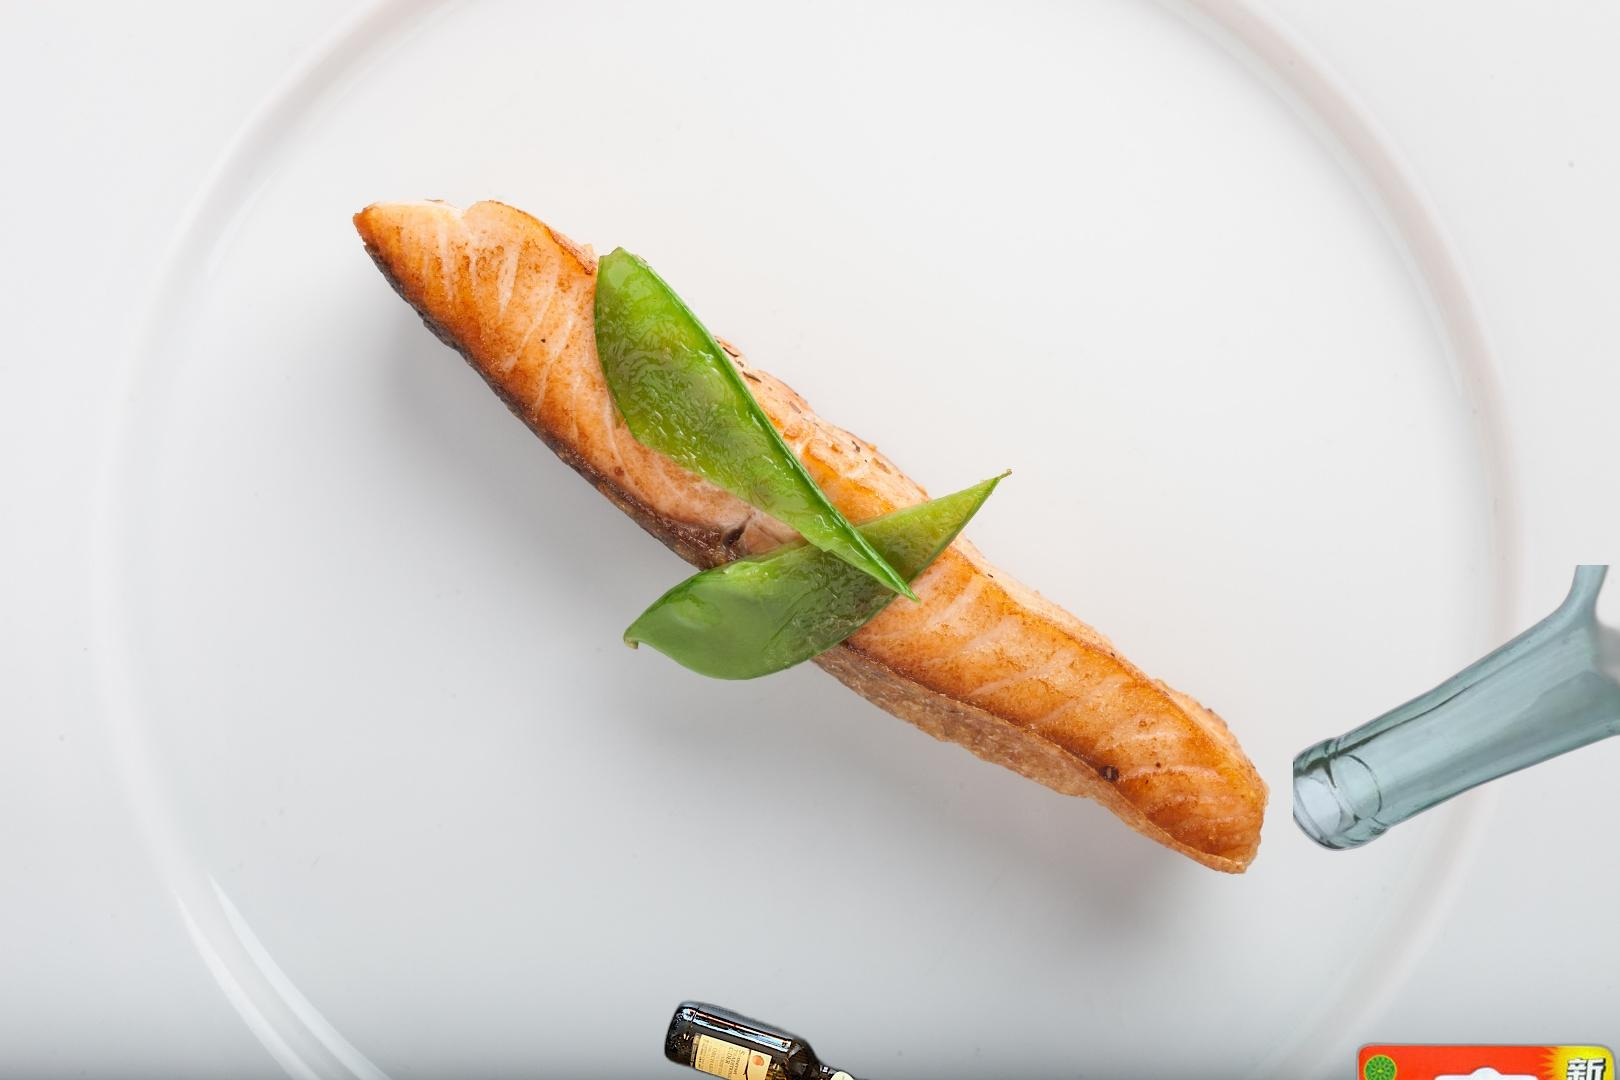battery: (1350, 1039, 1620, 1080)
glass: (1293, 565, 1620, 853), (661, 994, 882, 1080)
